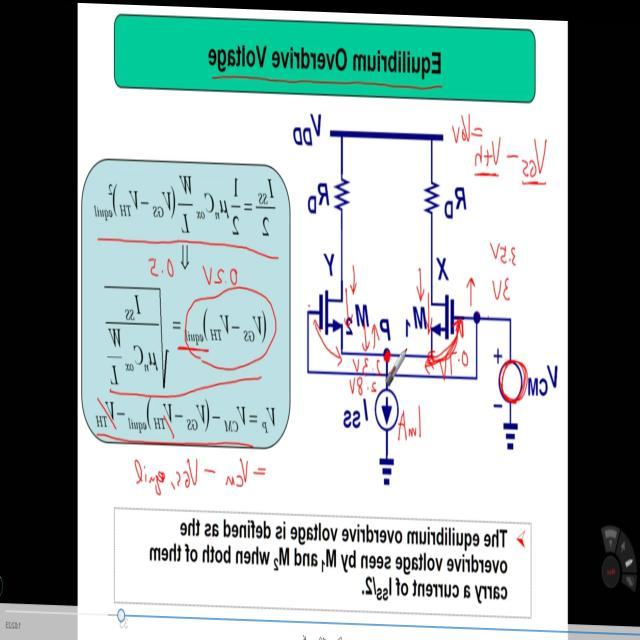panseo: (446, 97, 560, 312), (124, 432, 278, 521), (342, 335, 392, 399), (394, 390, 436, 463)
